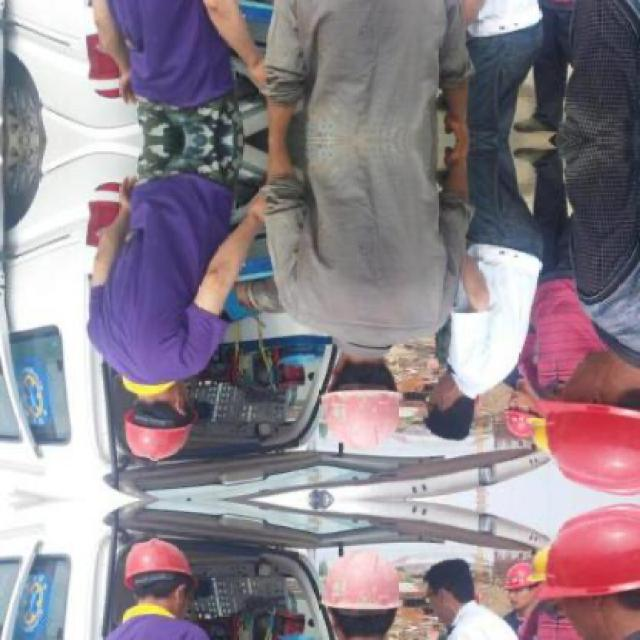con casco: (65, 318, 222, 476), (307, 278, 453, 446), (518, 312, 640, 477)
sin casco: (384, 357, 508, 458)
